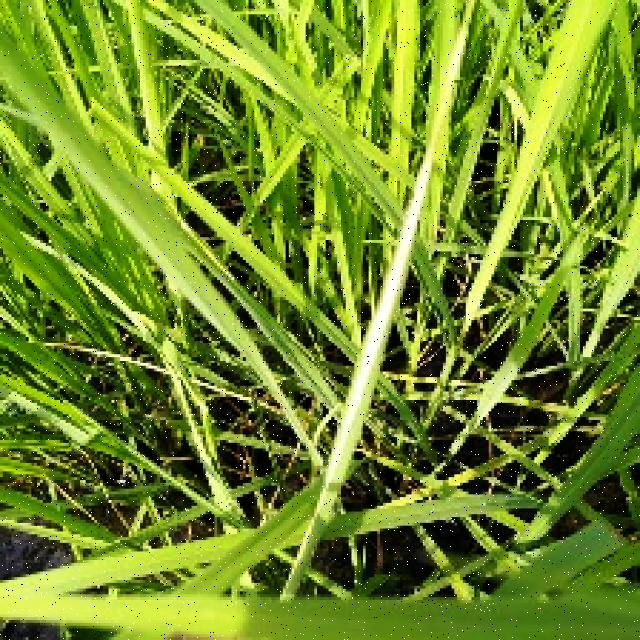health: (279, 0, 512, 301)
